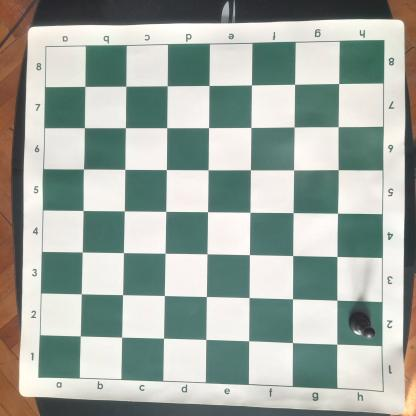black-pawn: (347, 308, 377, 341)
